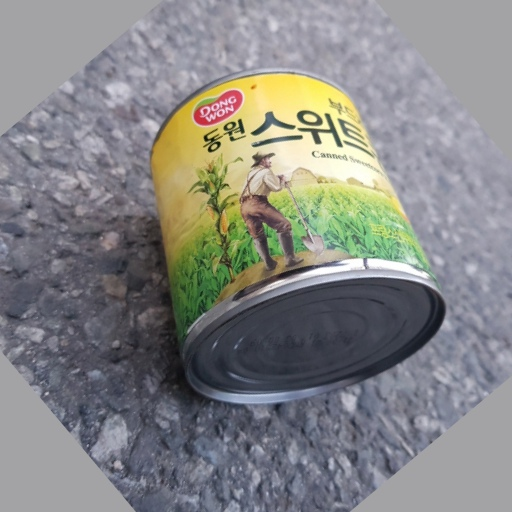Metal_1: (148, 65, 447, 410)
